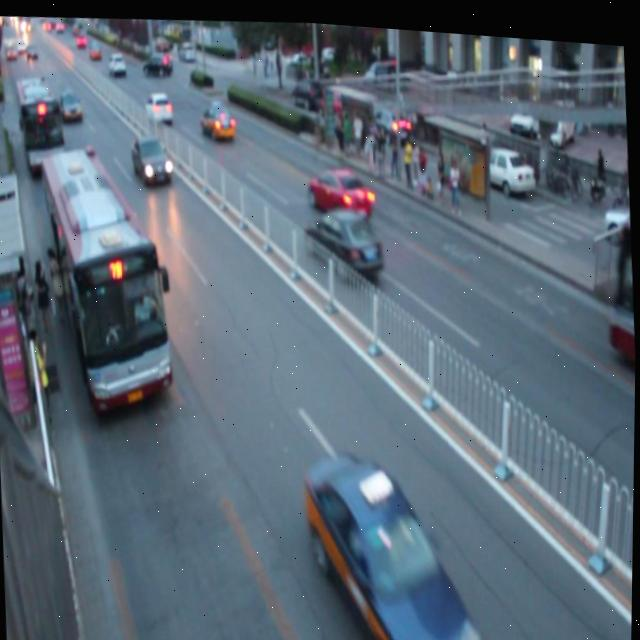car: (305, 436, 480, 640), (304, 200, 384, 281), (306, 157, 373, 217), (132, 130, 172, 187), (201, 97, 236, 140), (144, 87, 174, 126), (58, 83, 85, 124)
van: (39, 145, 176, 415), (600, 196, 638, 370), (14, 75, 69, 176)
